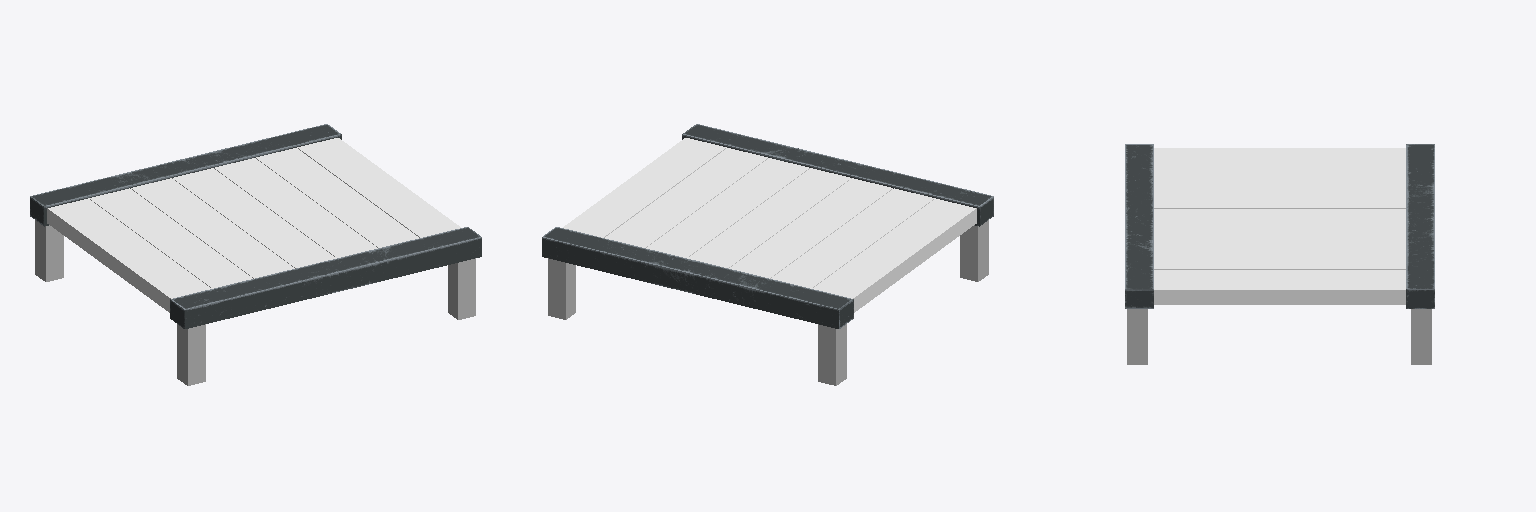
3 views of the same model, side by side, from view 1: azimuth 30°, elevation 25°; view 2: azimuth 150°, elevation 25°; view 3: azimuth 270°, elevation 25° (orthographic).
Visible parts, largest first — view 1: table_table.obj; view 2: table_table.obj; view 3: table_table.obj.
Boxes of the visible parts, x1,y1,x2,y2 form: table_table.obj: [30, 124, 481, 385]; table_table.obj: [542, 124, 993, 385]; table_table.obj: [1125, 144, 1434, 364].
Size of the model in its own units: 1.28 by 0.323 by 1.16.
3 materials, 1 textured.